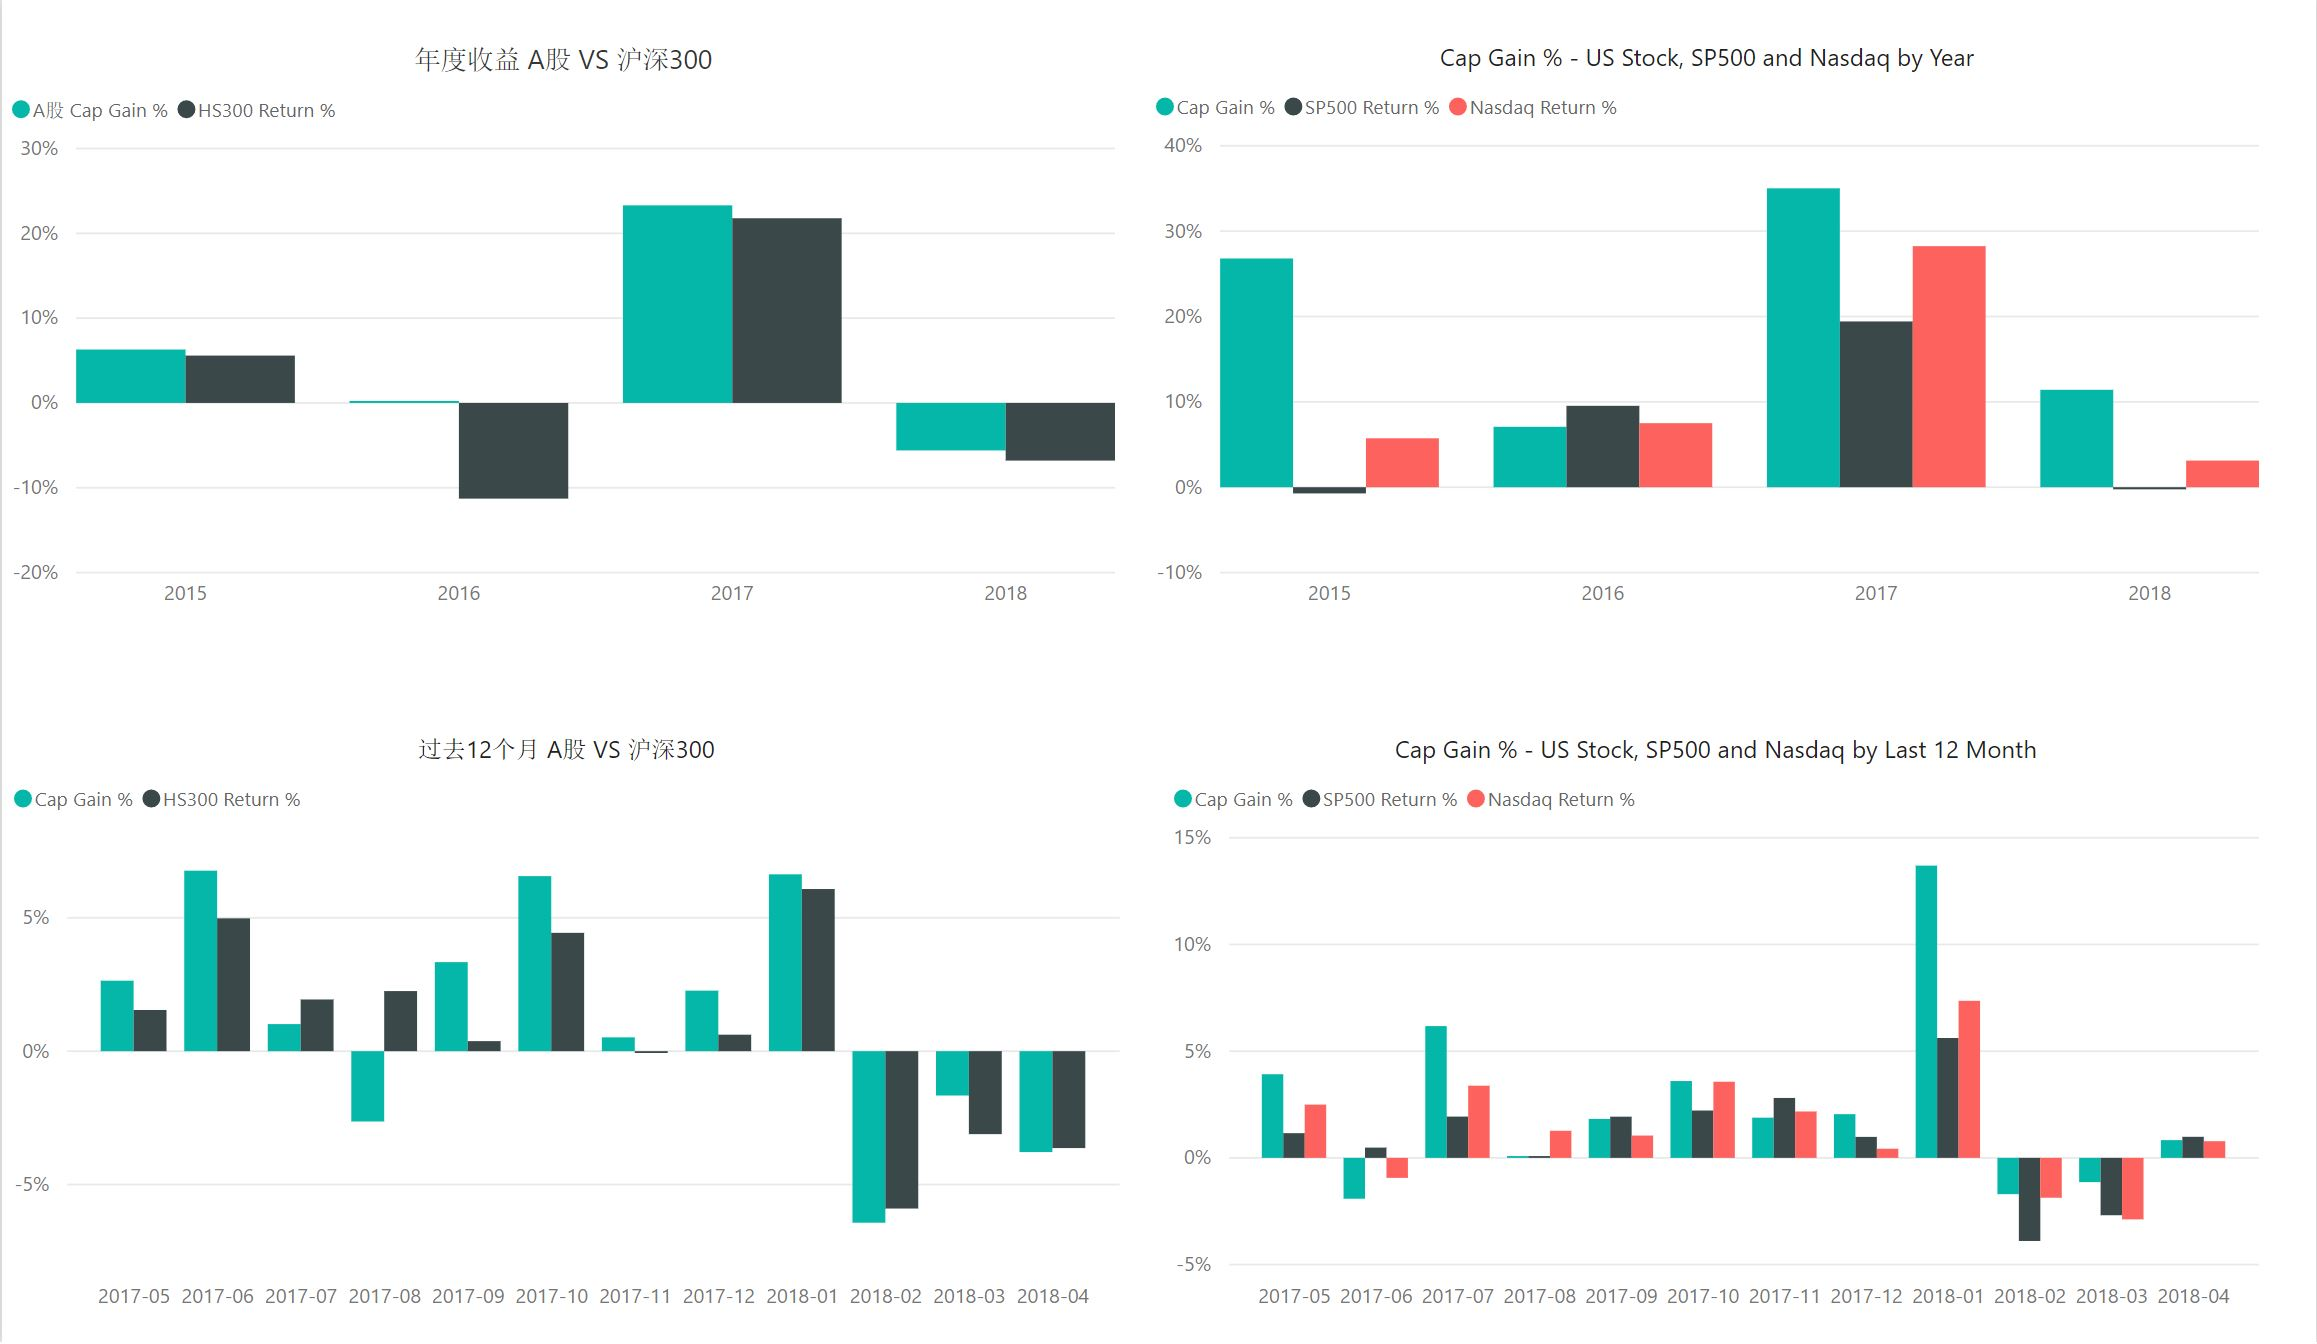

Layout of this report page (visuals, bound fields, positions):
{"tool":"powerbi","page":{"name":"Performance","canvas":[1280,720],"ordinal":1},"visuals":[{"type":"clusteredColumnChart","fields":{"Category":["Dates.Year"],"Y":["Report.Cap Gain %","Report.HS300 Return %"]},"box":[0,0,620.4,323.7],"z":1},{"type":"clusteredColumnChart","fields":{"Y":["Report.Cap Gain %","Report.HS300 Return %"],"Category":["Dates.Month"]},"box":[1.3,383.1,621.8,323.7],"z":2},{"type":"clusteredColumnChart","fields":{"Category":["Dates.Year"],"Y":["Report.Cap Gain %","Report.Benchmark 1 Return %","Report.Benchmark 3 Return %"]},"box":[632.6,0,620.4,323.7],"z":3},{"type":"clusteredColumnChart","fields":{"Category":["Dates.Month"],"Y":["Report.Cap Gain %","Report.Benchmark 1 Return %","Report.Benchmark 3 Return %"]},"box":[642.7,383.1,610.3,323.7],"z":4}]}

Visuals, with their boxes on the page's 1280x720 design canvas (x1, y1, x2, y2). These are canvas units, not pixel positions in the 2317x1344 screenshot, which may show the page scaled, cropped or inside an application window:
clusteredColumnChart - Dates.Year x Report.Cap Gain %: x1=0 y1=0 x2=620 y2=324
clusteredColumnChart - Report.Cap Gain % x Report.HS300 Return %: x1=1 y1=383 x2=623 y2=707
clusteredColumnChart - Dates.Year x Report.Cap Gain %: x1=633 y1=0 x2=1253 y2=324
clusteredColumnChart - Dates.Month x Report.Cap Gain %: x1=643 y1=383 x2=1253 y2=707
